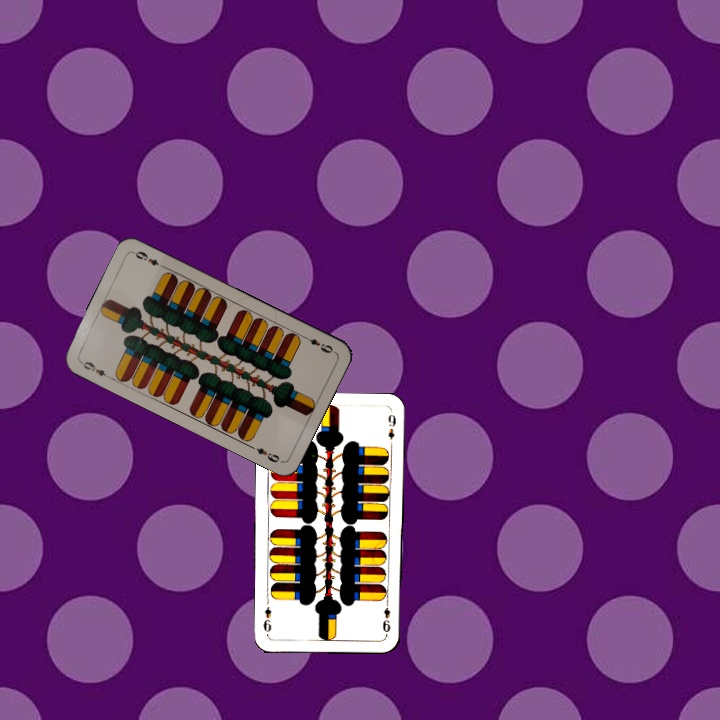E9: (76, 357, 114, 382), (299, 331, 336, 356), (378, 597, 393, 637)
